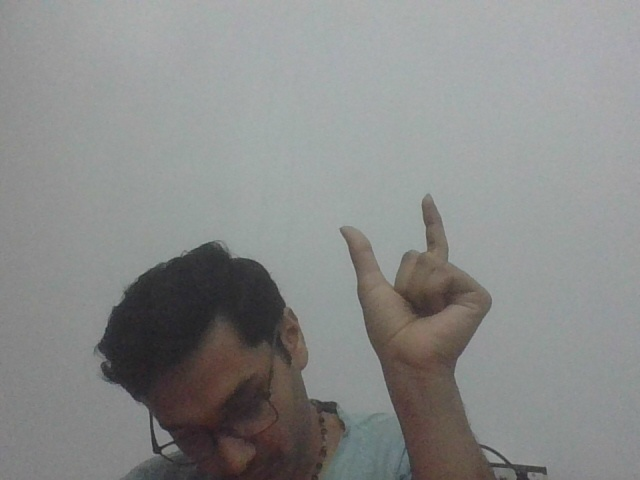U: (328, 192, 502, 369)
